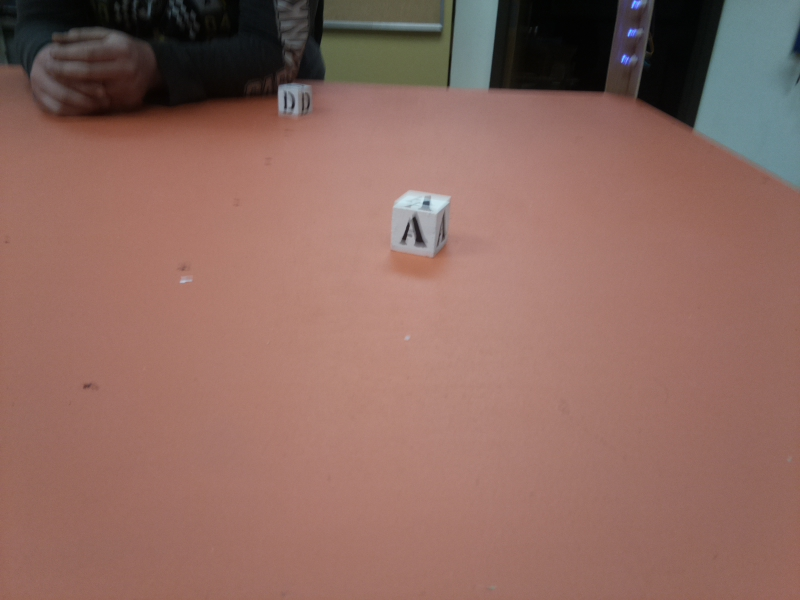blockA: (389, 191, 451, 255)
blockD: (280, 87, 313, 115)
corner: (602, 1, 656, 97)
